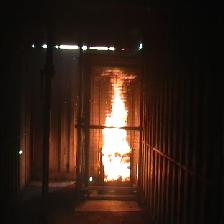fire: (105, 67, 130, 179)
